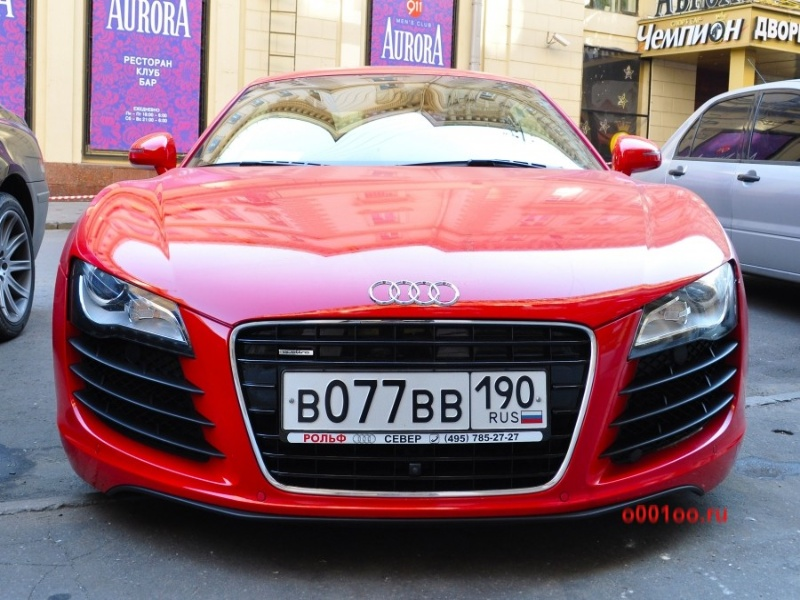car: (54, 66, 751, 530), (631, 77, 800, 280), (1, 103, 49, 342)
plate: (284, 372, 547, 430)
